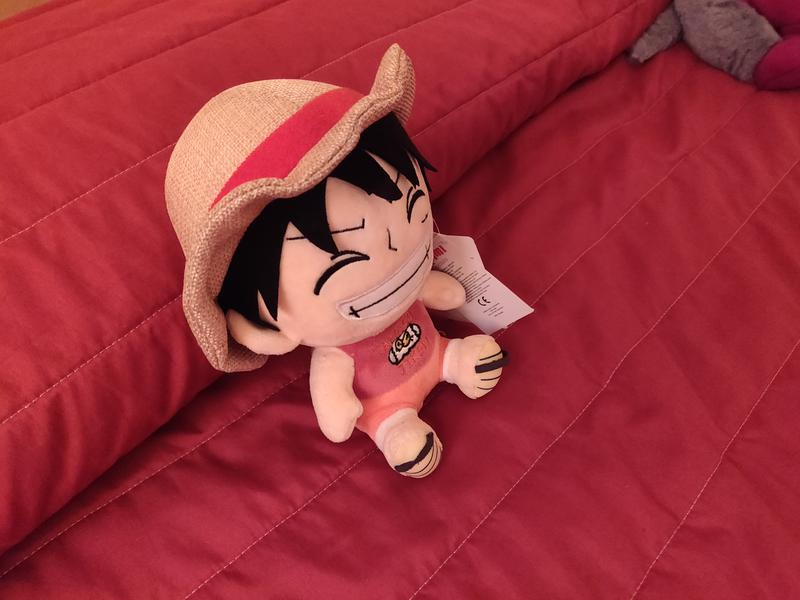rufy: (158, 39, 545, 481)
